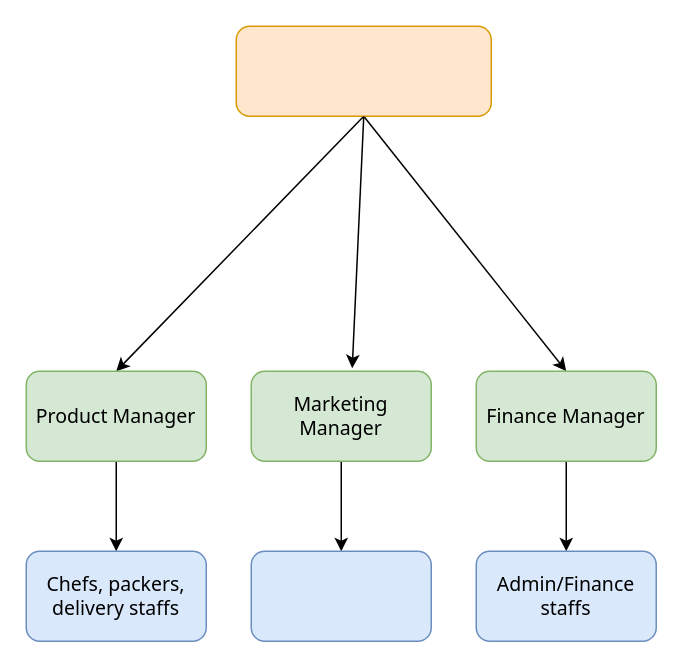
The diagram is 683 pixels wide and 668 high, and some of its shapes have lost their labels. The centre of each missing label's shape, as x and y in pixels:
"Board of Directors (C.E.O and Asst. C.E.O)" belongs at point (363, 70).
"Marketing staffs" belongs at point (340, 595).
